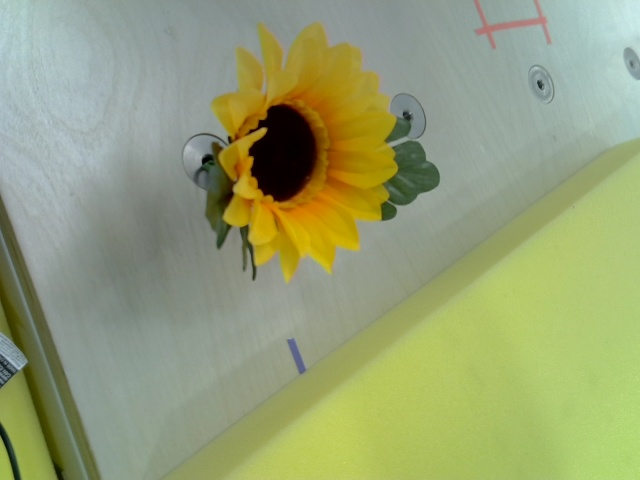해바라기: (212, 25, 397, 284)
